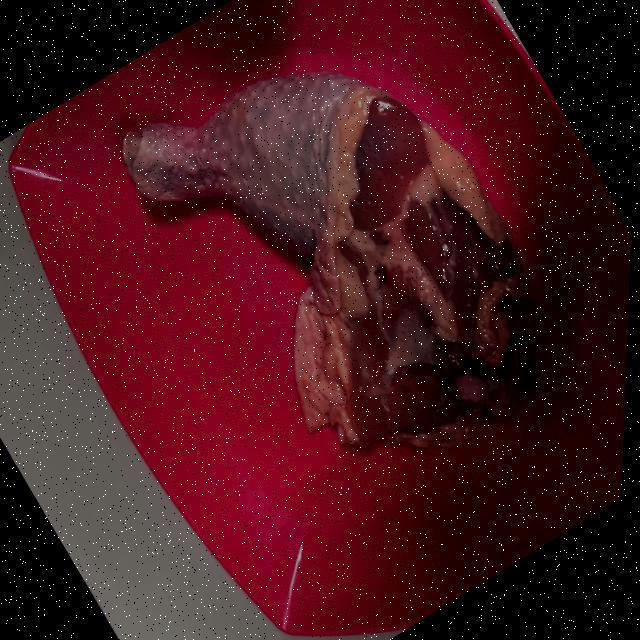quater: (134, 69, 526, 419)
